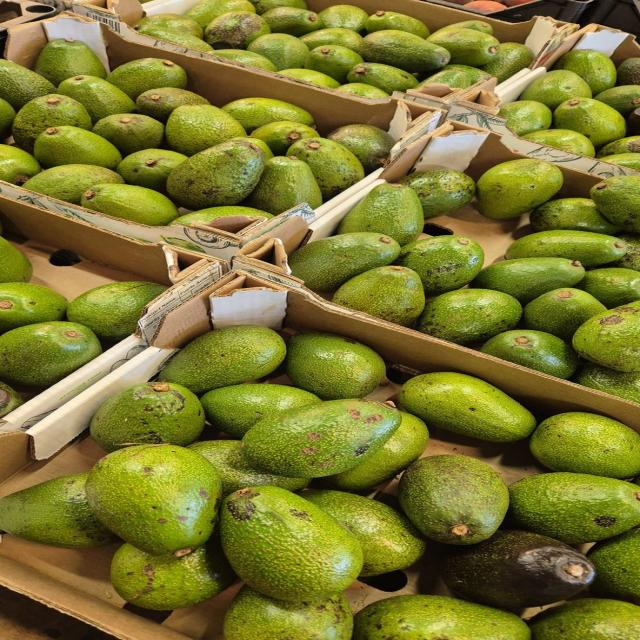avocado: (220, 486, 362, 601), (87, 445, 221, 555), (242, 400, 400, 477), (441, 530, 594, 609), (300, 490, 425, 576), (399, 455, 508, 545), (399, 373, 536, 442), (507, 473, 639, 544), (159, 326, 286, 394), (111, 541, 235, 610), (0, 474, 117, 547), (323, 412, 428, 491), (90, 382, 205, 452), (354, 595, 530, 639), (530, 412, 639, 479), (224, 586, 353, 639), (187, 440, 308, 496), (286, 332, 385, 400), (167, 141, 264, 210), (201, 384, 319, 439), (0, 322, 101, 386), (289, 233, 400, 291), (416, 289, 521, 345), (67, 282, 166, 340), (333, 266, 425, 326), (338, 183, 423, 245), (476, 159, 563, 219), (472, 258, 585, 303), (397, 236, 484, 294), (480, 330, 578, 379), (287, 138, 364, 200), (361, 29, 467, 73), (12, 94, 92, 152), (573, 302, 639, 372), (506, 230, 626, 268), (530, 598, 639, 639), (522, 288, 606, 341), (244, 157, 322, 214), (165, 105, 245, 156), (80, 184, 179, 225), (23, 165, 124, 204), (587, 529, 639, 604), (400, 169, 475, 219), (34, 126, 121, 169), (58, 75, 135, 123), (554, 98, 626, 149), (34, 39, 106, 86), (107, 58, 186, 100), (0, 283, 66, 333), (530, 198, 619, 235), (222, 98, 313, 134), (327, 125, 394, 173), (117, 149, 187, 193), (93, 114, 164, 156), (520, 70, 592, 110), (554, 50, 616, 96), (0, 60, 55, 110), (572, 362, 639, 403), (590, 176, 639, 232), (427, 29, 499, 67), (136, 88, 209, 123), (204, 11, 271, 49), (579, 267, 639, 308), (251, 121, 317, 155), (305, 45, 363, 83), (347, 63, 418, 94), (247, 34, 308, 70), (480, 43, 533, 83), (135, 25, 213, 52), (184, 0, 255, 29), (523, 129, 595, 157), (499, 100, 552, 136), (174, 206, 273, 225), (134, 13, 202, 39), (262, 6, 319, 37), (366, 11, 429, 38), (0, 145, 41, 185), (300, 28, 362, 53), (0, 237, 33, 283), (594, 85, 639, 117), (214, 49, 277, 71), (319, 5, 368, 32), (416, 69, 473, 89), (279, 69, 339, 88), (610, 234, 639, 271), (230, 136, 274, 160), (442, 64, 491, 83), (598, 136, 639, 158), (337, 82, 389, 98), (0, 382, 23, 417), (252, 0, 306, 14), (440, 20, 493, 34), (617, 57, 640, 86), (600, 153, 639, 170), (0, 98, 15, 140)
